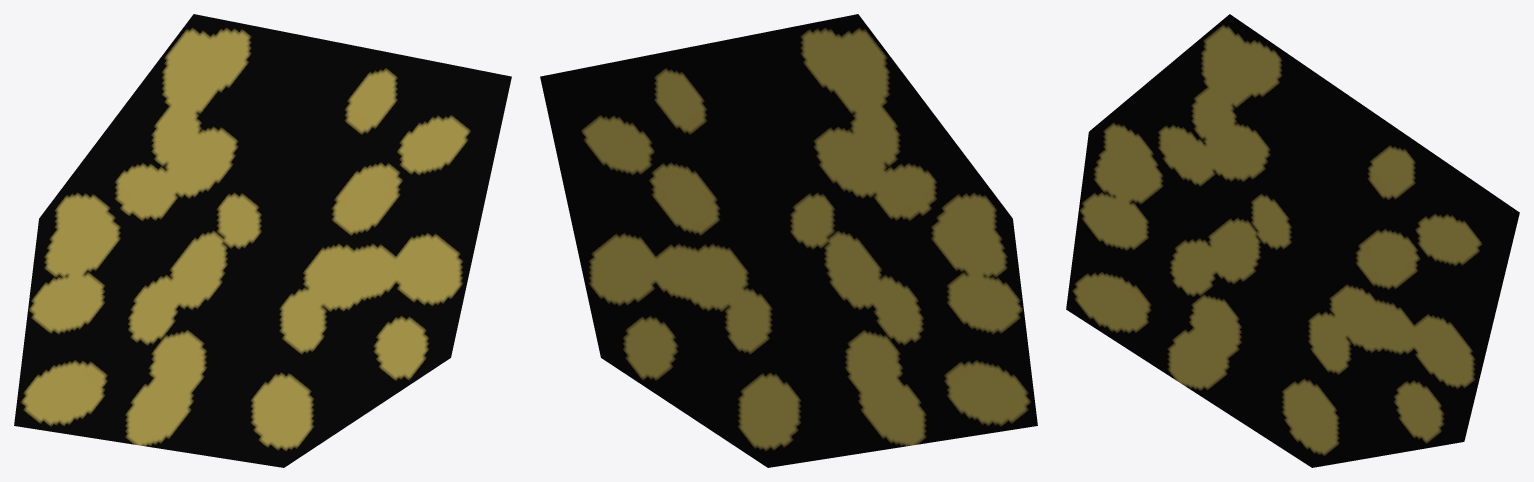
File: YellowLeafLitter_01.fbx
The picture shows the model from 3 angles, left to right: view 1: azimuth 30°, elevation 25°; view 2: azimuth 150°, elevation 25°; view 3: azimuth 330°, elevation 25°; orthographic projection. The views are drawn at different scales.
Parts seen in each view (by area): view 1: YellowLeafLitter_01; view 2: YellowLeafLitter_01; view 3: YellowLeafLitter_01.
Boxes of the visible parts, x1,y1,x2,y2 form: YellowLeafLitter_01: (14,14,511,467); YellowLeafLitter_01: (540,14,1037,467); YellowLeafLitter_01: (1066,14,1519,467).
Size of the model in its own units: 581 by 531 by 3.25e-14.
Materials: 1 (1 with a texture image).
